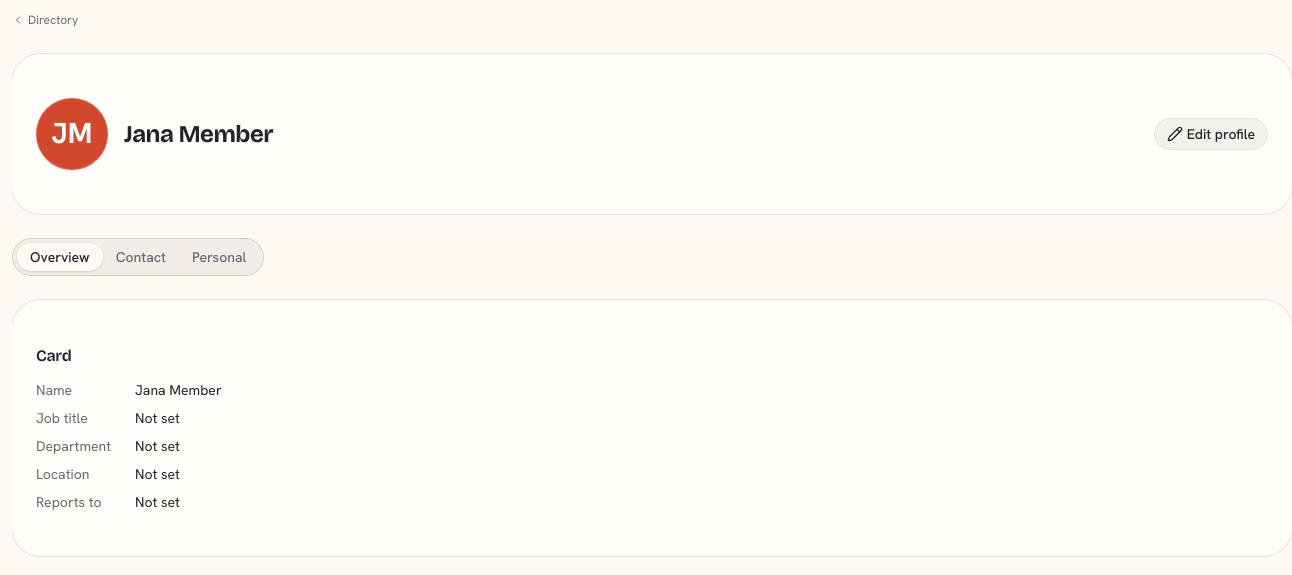
Scenario: ProfileScreen › the Sensitive sections › keeps Contact closed for someone else until Show, then opens it once with the read-log line
Click the tab "Contact": [141, 257] box [103,243,179,271]
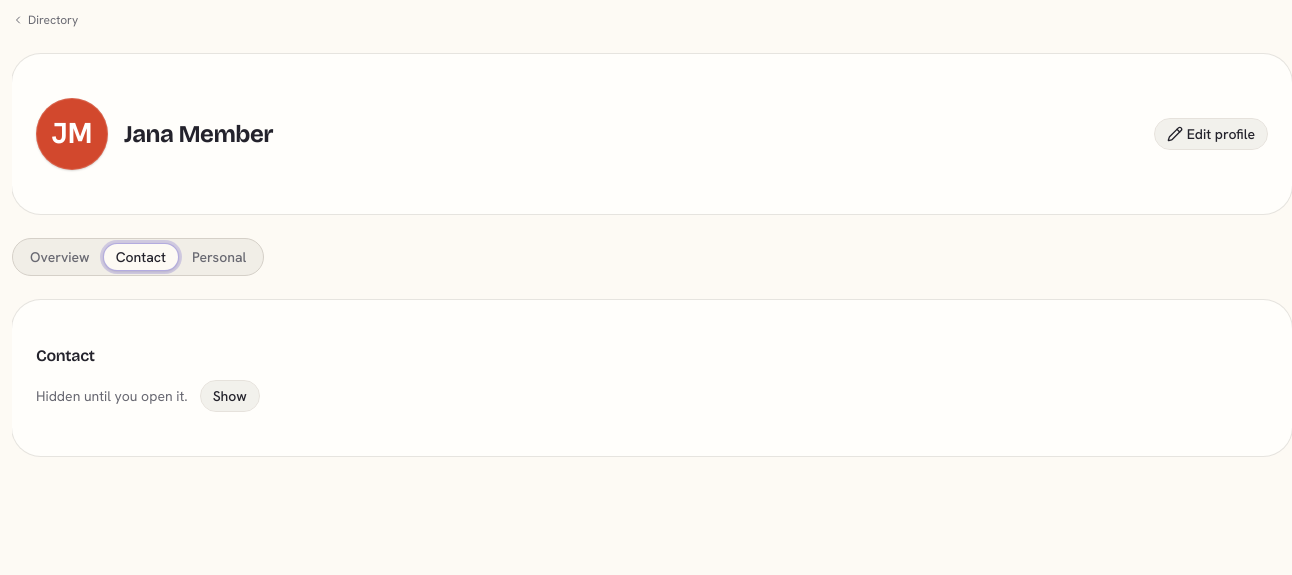
Expected: the text "Hidden until you open it." is shown, [36,386,188,406]
Click the button "Show": [230, 396] box [200,380,260,412]
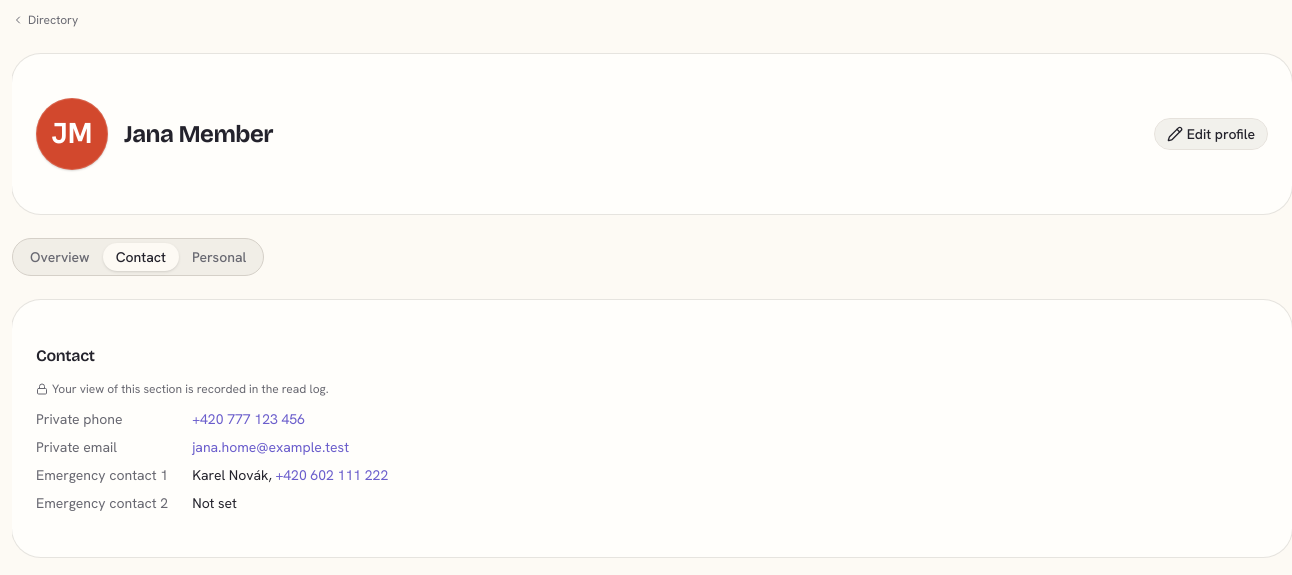
Expected: the text "Your view of this section is recorded in the read log." is shown, [36,381,329,397]
Expected: the text "Karel Novák, +420 602 111 222" is shown, [192,466,388,484]
Click the tab "Personal": [219, 257] box [179,243,259,271]
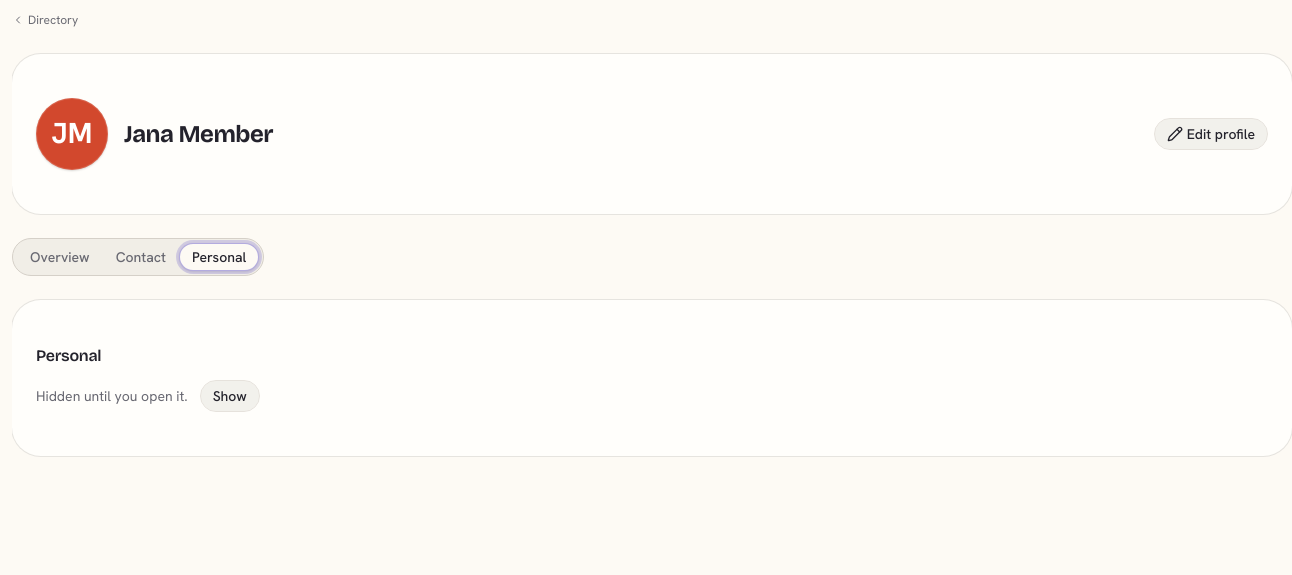
Click the tab "Contact": [141, 257] box [103,243,179,271]
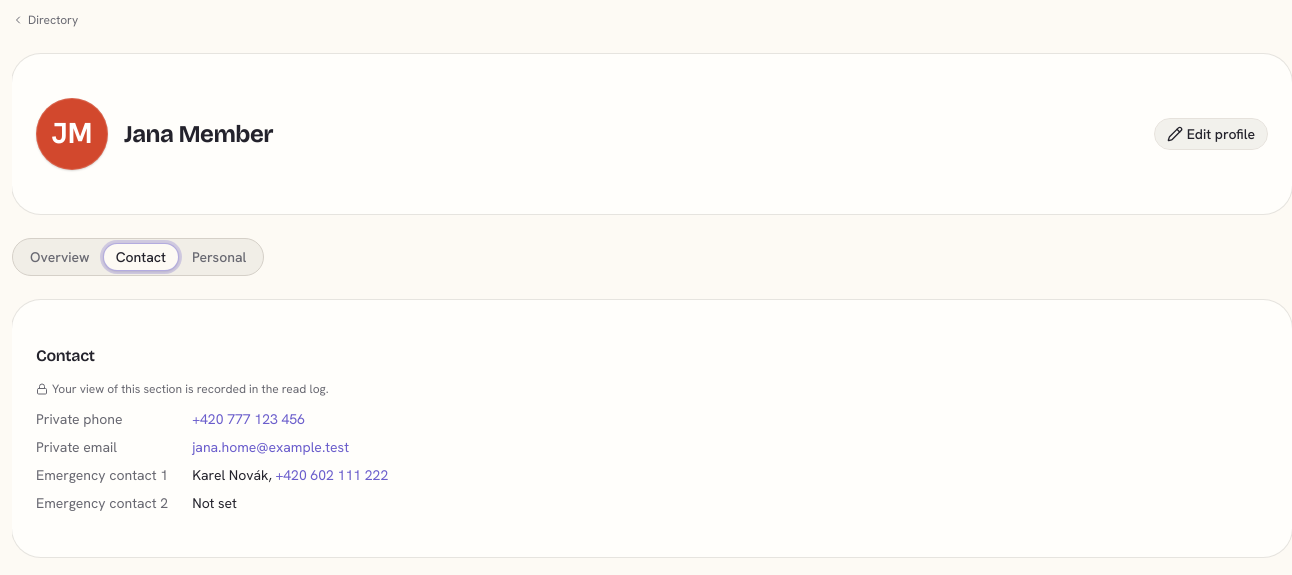
Expected: the link "jana.home@example.test" is shown, [192,438,349,456]
